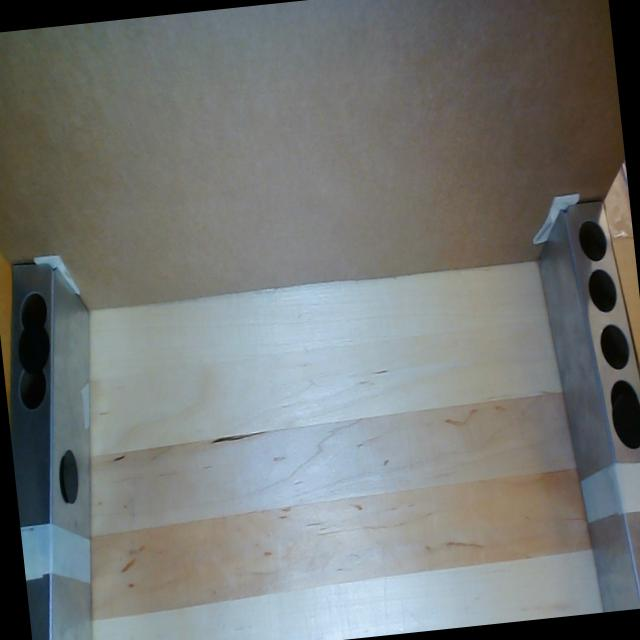Hole: (16, 361, 50, 415), (598, 322, 631, 372), (586, 268, 618, 314), (576, 218, 608, 262), (609, 377, 640, 422), (18, 292, 50, 334), (56, 454, 73, 502)
Sticker: (15, 320, 52, 374), (610, 391, 640, 450), (60, 448, 80, 504)
